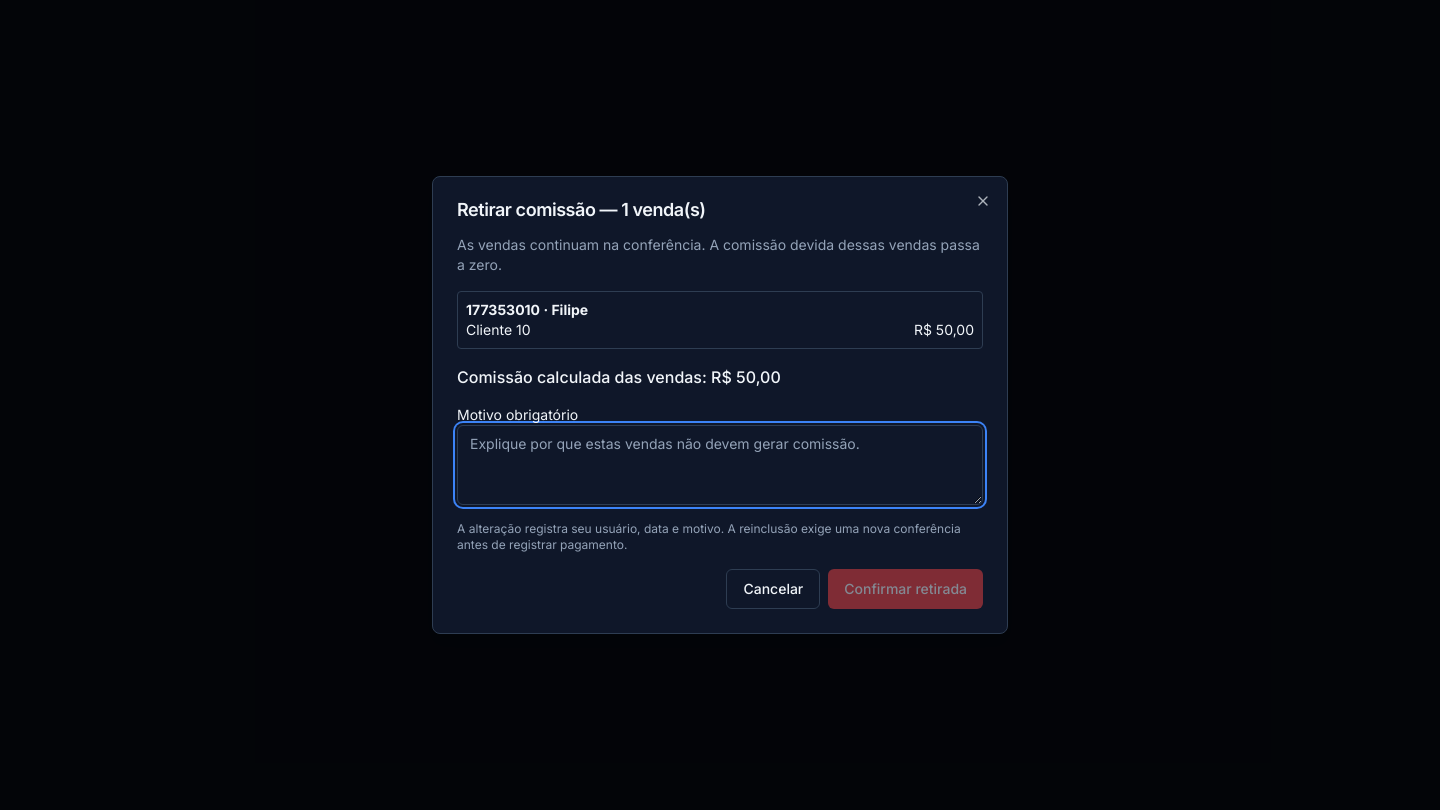
retirada e reinclusão de comissões › após escrita bem-sucedida e falha de leitura informa o registro e repete somente a leitura
Later steps or results of the test are not shown.
Type "Atendimento pendente" into the text box labelled "Motivo obrigatório" at point(720, 465), box [457,425,983,505]
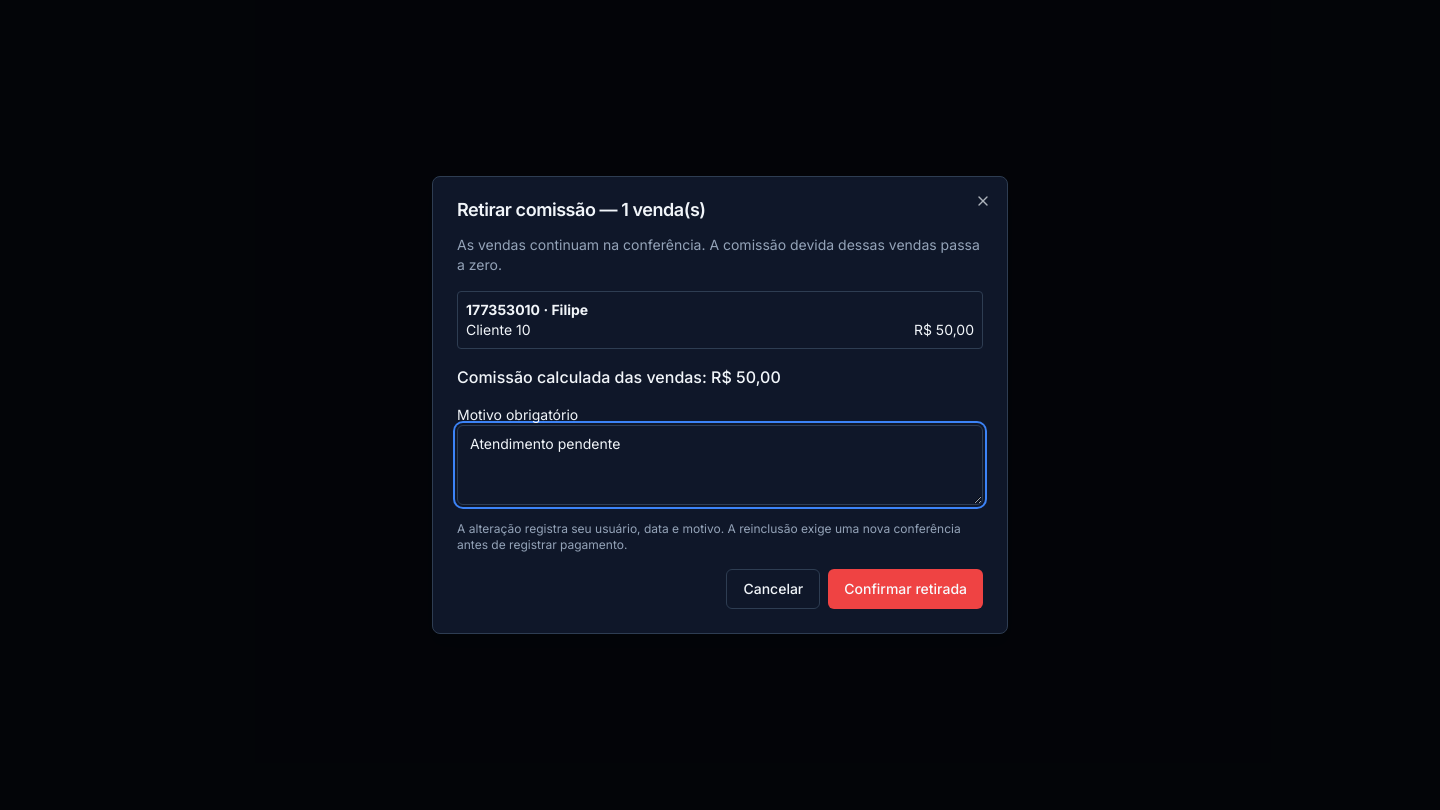
Click the button "Confirmar retirada" at point(906, 589), box [828,569,983,609]
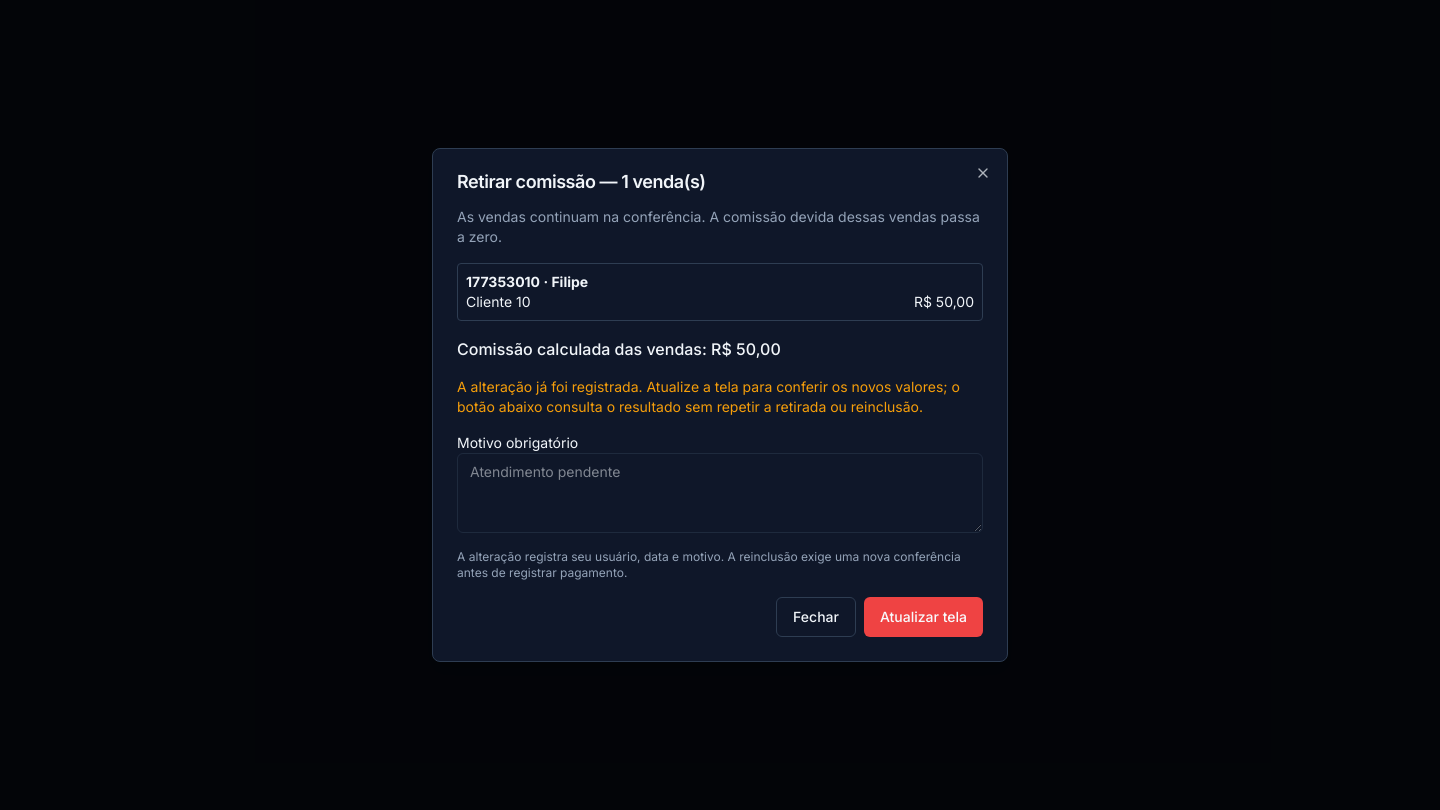
Check: the text "A alteração já foi registrada" is shown, box [457,378,960,415]
Check: the text box labelled "Motivo obrigatório" is disabled, box [457,453,983,533]
